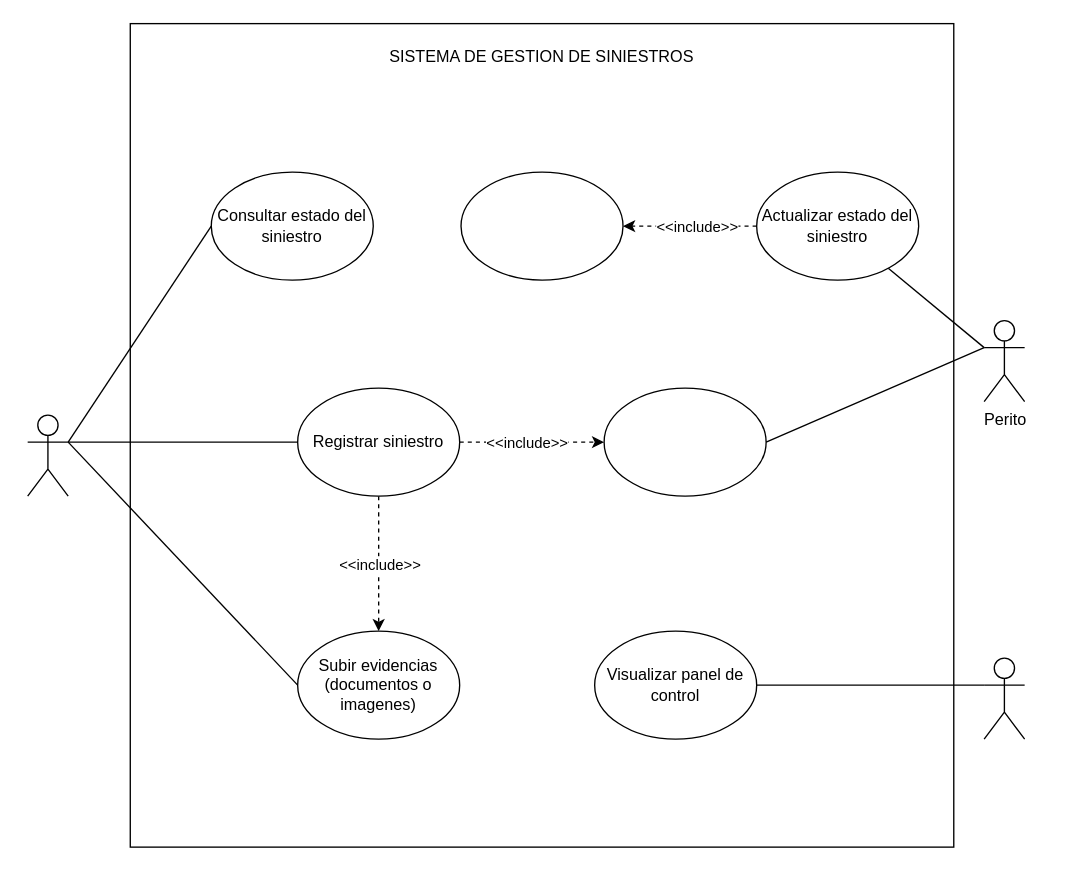
The diagram is 1067 pixels wide and 871 high, and some of its shapes have lost their labels. The centre of each missing label's shape, as x and y in pixels:
"Asignacion de siniestro a Perito" goes at [684,441].
"Cliente" goes at [47,455].
"Enviar notifiaciones" goes at [541,225].
"Supervisor" goes at [1004,698].
